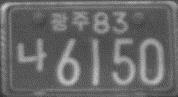0: (139, 36, 165, 87)
1: (90, 36, 102, 88)
3: (111, 10, 128, 34)
5: (111, 36, 135, 86)
6: (56, 36, 81, 86)
8: (93, 10, 109, 34)
광주_O: (49, 9, 91, 33)
나: (16, 37, 47, 72)
